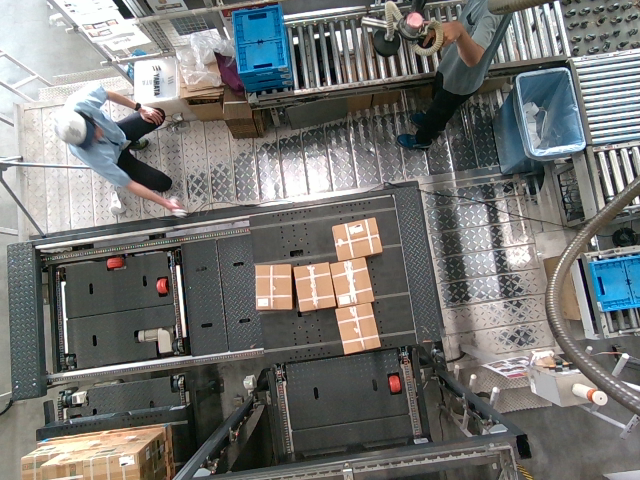box: (328, 220, 381, 257), (293, 263, 333, 311), (332, 258, 372, 306), (338, 303, 378, 351), (255, 263, 291, 307)
